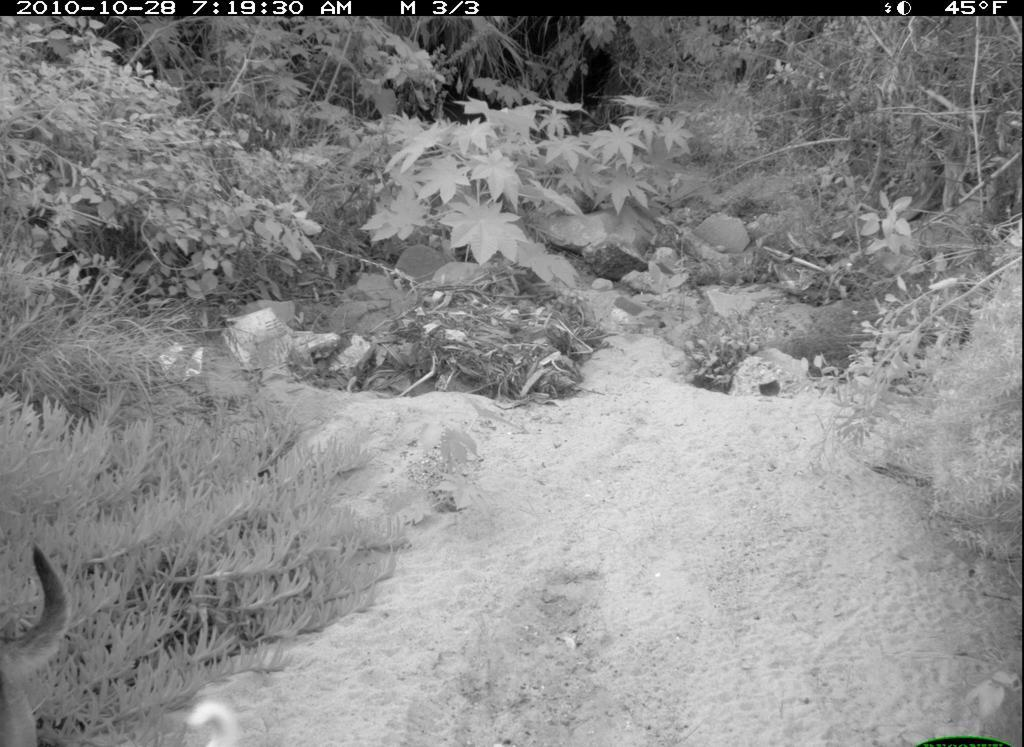dog: (2, 541, 82, 740)
